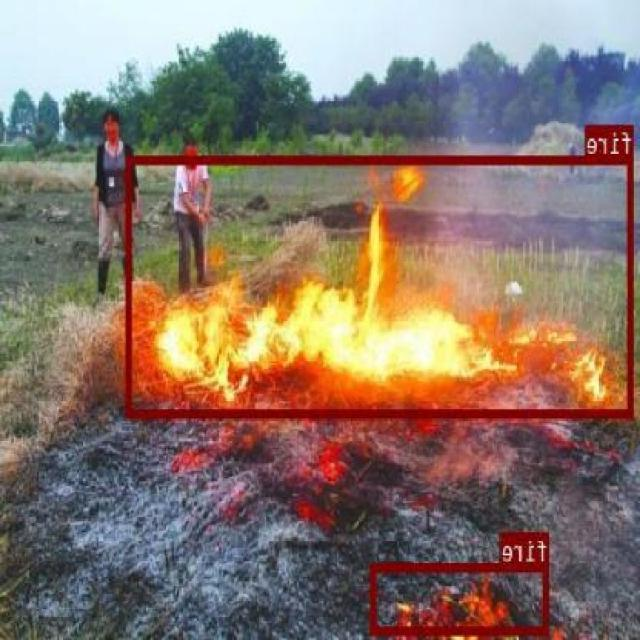Fire: (127, 155, 635, 417), (372, 563, 550, 632)
